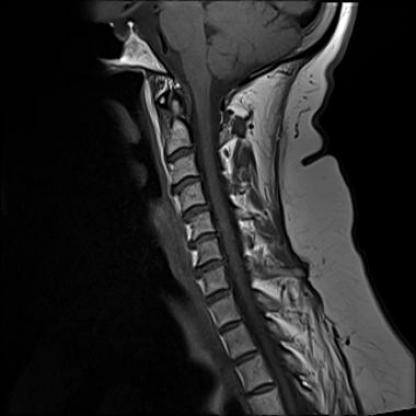Disc Bulgerotation: (187, 232, 222, 247)
